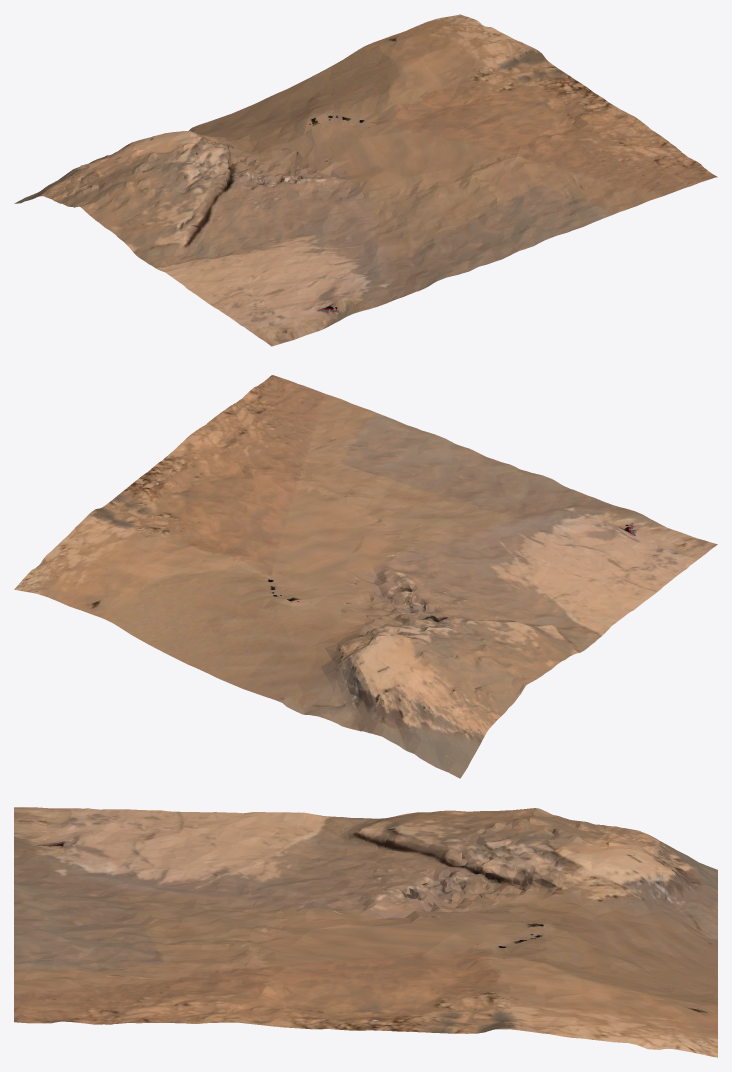
The picture shows the model from 3 angles, top to bottom: view 1: azimuth 30°, elevation 25°; view 2: azimuth 150°, elevation 25°; view 3: azimuth 270°, elevation 25°; orthographic projection. The views are drawn at different scales.
Size of the model in its own units: 1.04 by 0.2386 by 1.04.
2 materials, 2 textured.
